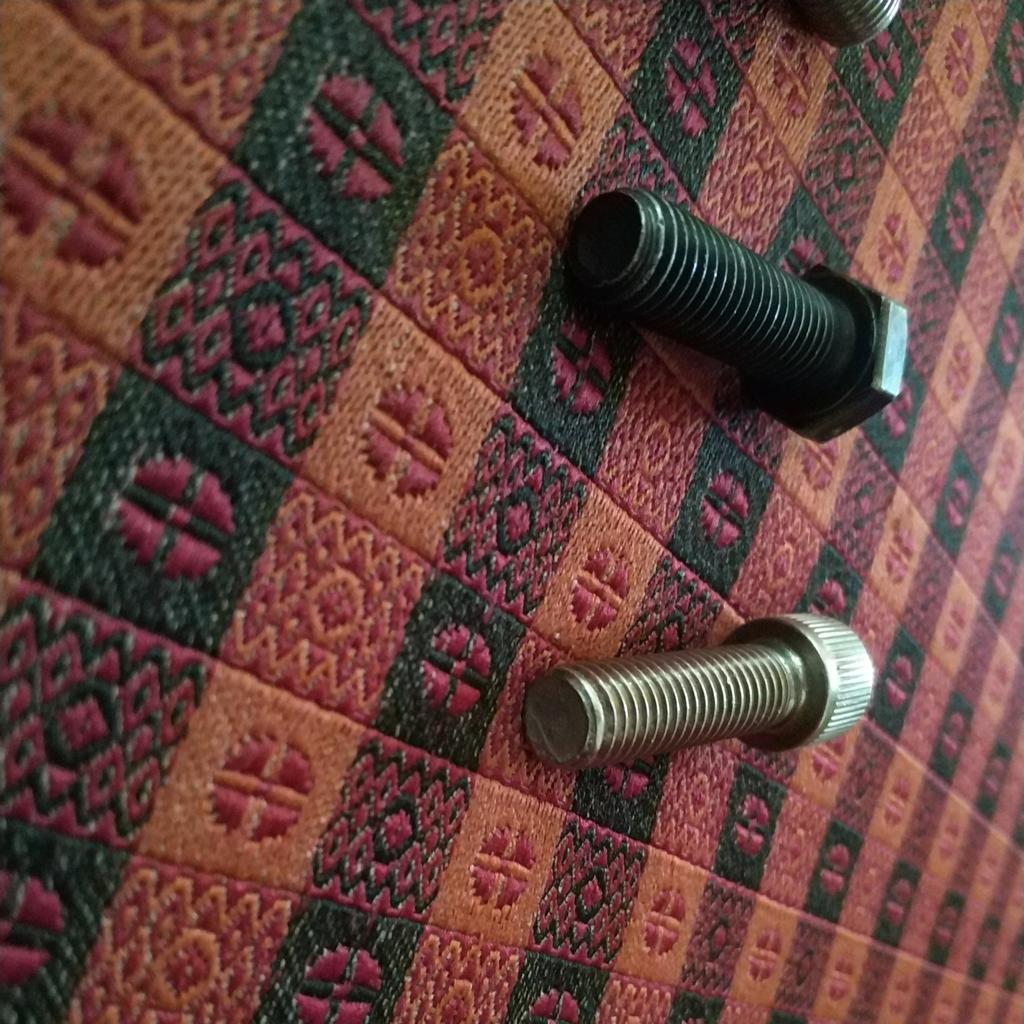screwtype1silver: (520, 608, 877, 780)
screwtype2black: (562, 181, 909, 445)
